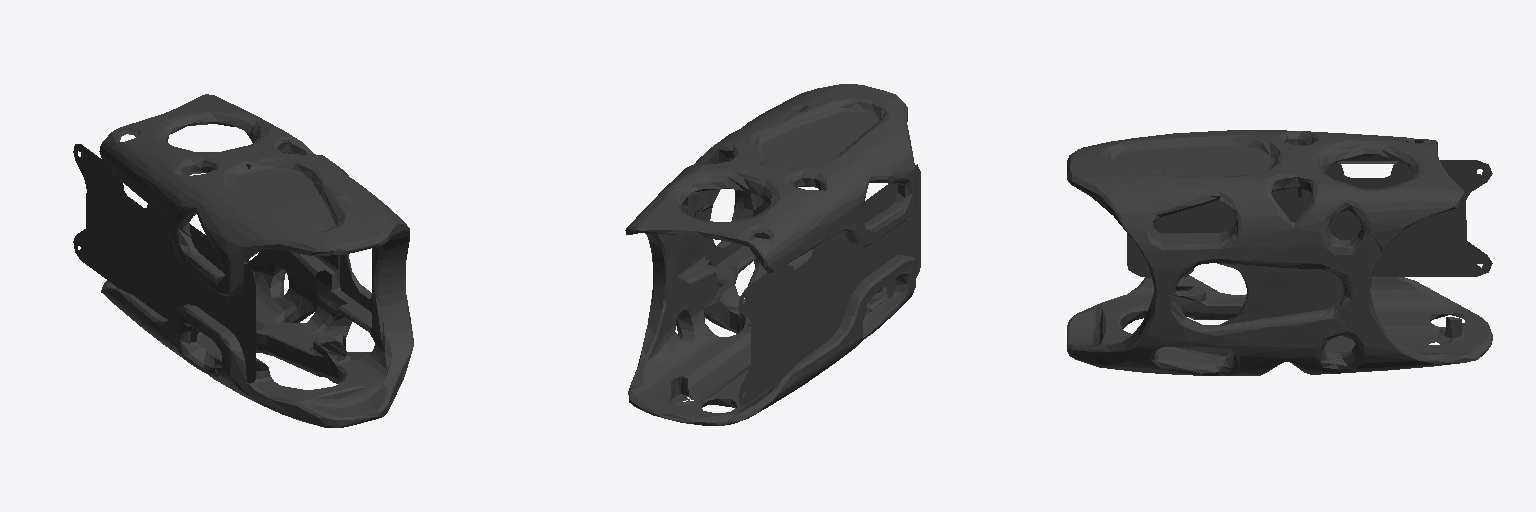
Rendered from wristYawLeft_0.obj.
The picture shows the model from 3 angles: view 1: azimuth 30°, elevation 25°; view 2: azimuth 150°, elevation 25°; view 3: azimuth 270°, elevation 25°; orthographic projection.
Bounding box in the file's own units: 0.0725 × 0.0761 × 0.1523.